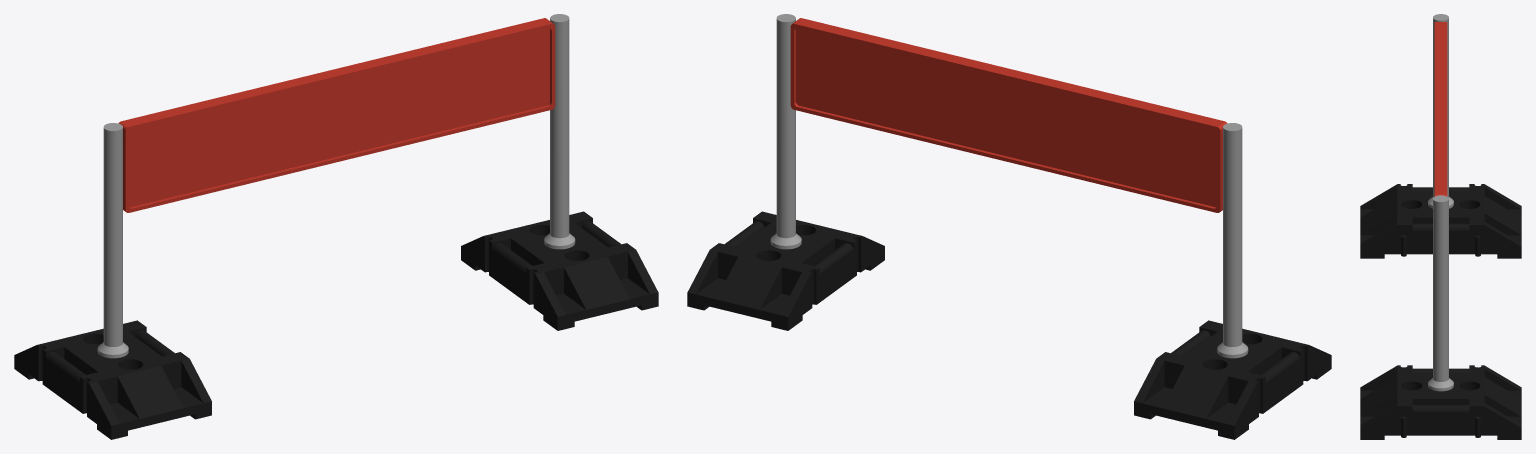
File: BarrierAssembly.fbx
3 views of the same model, side by side, from view 1: azimuth 30°, elevation 25°; view 2: azimuth 150°, elevation 25°; view 3: azimuth 270°, elevation 25° (orthographic). The views are drawn at different scales.
Visible parts, largest first — view 1: Body1 (×3), Body3, Body2; view 2: Body1 (×3), Body3, Body2; view 3: Body1 (×3), Body2, Body3.
Part boxes in pixels (box(x1,y1,x2,y2)): Body1 (×3): box(14, 18, 658, 439); Body3: box(97, 123, 128, 358); Body2: box(544, 14, 575, 249); Body1 (×3): box(687, 18, 1331, 439); Body3: box(1217, 123, 1248, 358); Body2: box(770, 14, 801, 249); Body1 (×3): box(1360, 22, 1521, 439); Body2: box(1428, 195, 1453, 391); Body3: box(1428, 14, 1453, 208).
Size of the model in its own units: 165 by 75.5 by 50.
